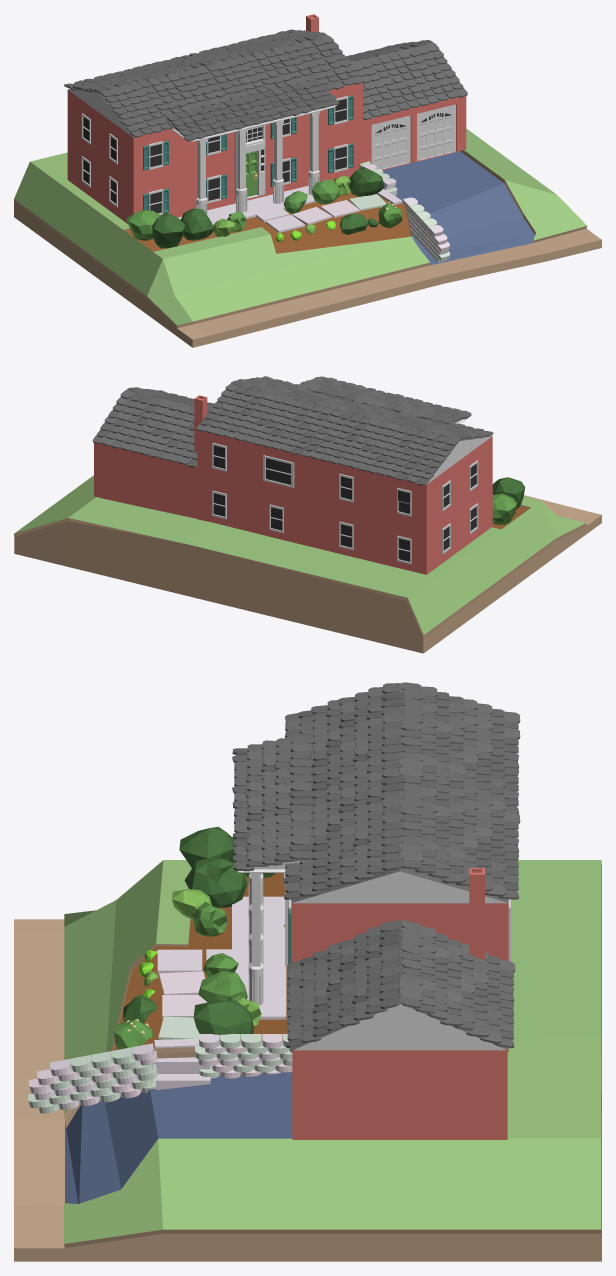
Rendered from home.gltf.
3 views of the same model, one above another, from view 1: azimuth 30°, elevation 25°; view 2: azimuth 150°, elevation 25°; view 3: azimuth 270°, elevation 25° (orthographic). The views are drawn at different scales.
Visible parts, largest first — view 1: Floor; view 2: Floor; view 3: Floor.
Boxes of the visible parts, x1,y1,x2,y2 form: Floor: (14, 14, 601, 347); Floor: (14, 376, 601, 653); Floor: (14, 682, 601, 1261).
Bounding box in the file's own units: 14.66 × 5.65 × 11.06.
